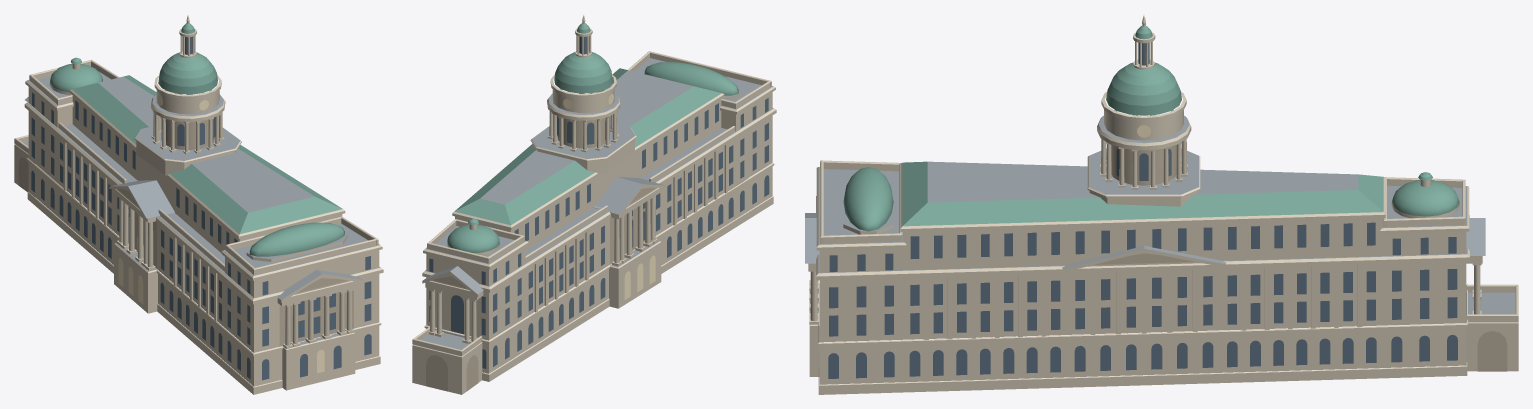
The model's file is nyc-police-headquarters.glb.
3 renders of one model, left to right at view 1: azimuth 30°, elevation 25°; view 2: azimuth 150°, elevation 25°; view 3: azimuth 270°, elevation 25°, orthographic. The views are drawn at different scales.
Parts seen in each view (by area): view 1: Police Building (old NYPD Headquarters); view 2: Police Building (old NYPD Headquarters); view 3: Police Building (old NYPD Headquarters).
Boxes of the visible parts, bbox=[...] form: Police Building (old NYPD Headquarters): bbox=[14, 14, 383, 394]; Police Building (old NYPD Headquarters): bbox=[412, 14, 776, 394]; Police Building (old NYPD Headquarters): bbox=[805, 14, 1518, 394].
Bounding box in the file's own units: 28.05 × 55.6 × 105.
